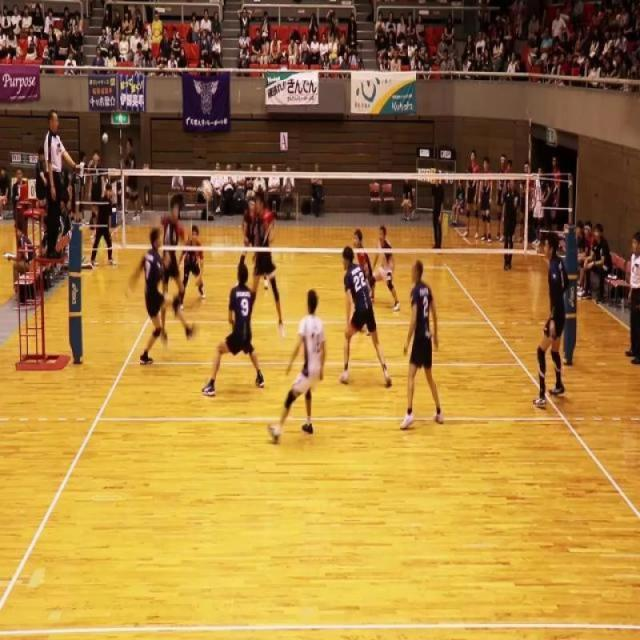volleyball: (200, 178, 213, 201)
